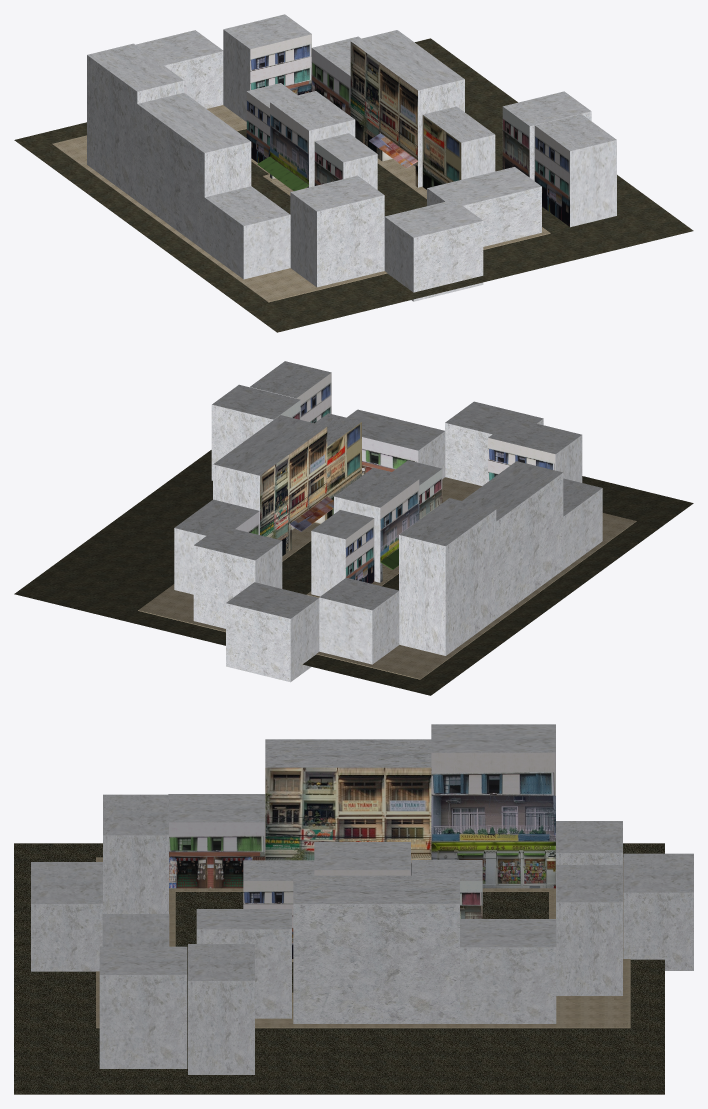
Rendered from ENVO_asiancity.obj.
The picture shows the model from 3 angles, top to bottom: view 1: azimuth 30°, elevation 25°; view 2: azimuth 150°, elevation 25°; view 3: azimuth 270°, elevation 25°; orthographic projection. The views are drawn at different scales.
Parts seen in each view (by area): view 1: asiancity; view 2: asiancity; view 3: asiancity.
Part boxes in pixels (box(x1,y1,x2,y2)): asiancity: box(14, 14, 693, 332); asiancity: box(14, 361, 693, 695); asiancity: box(14, 724, 693, 1094).
Size of what is drawn, in the model's own units: 3794 by 1039 by 4336.
12 materials, 12 textured.
